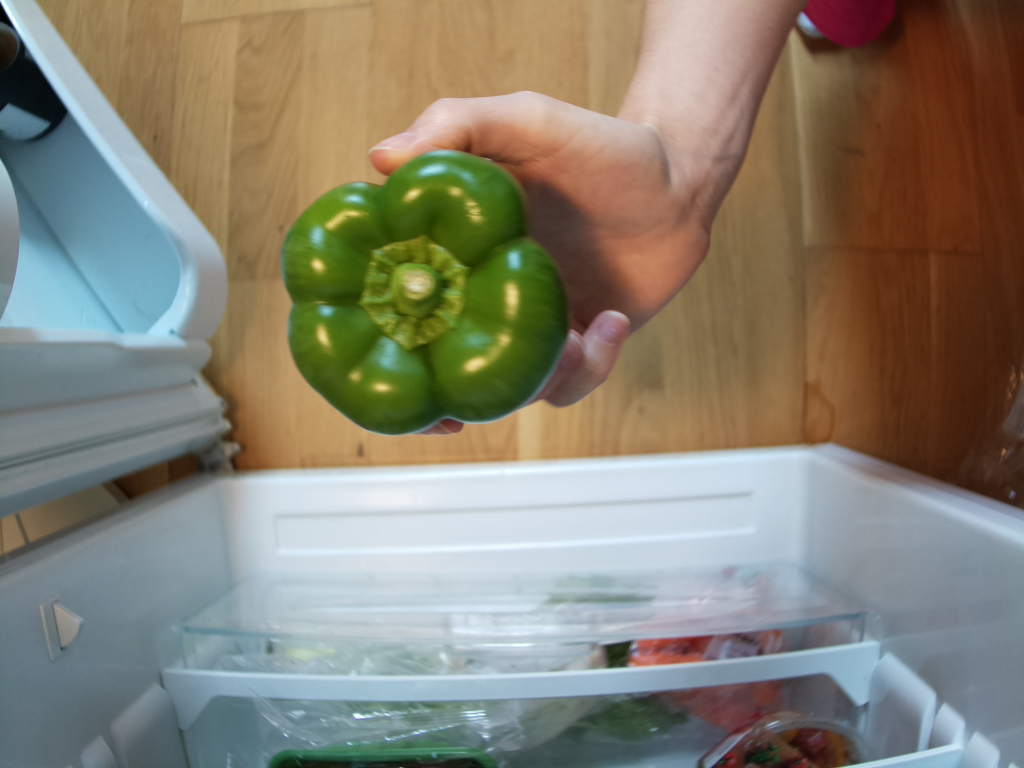pepper: (280, 148, 569, 436)
